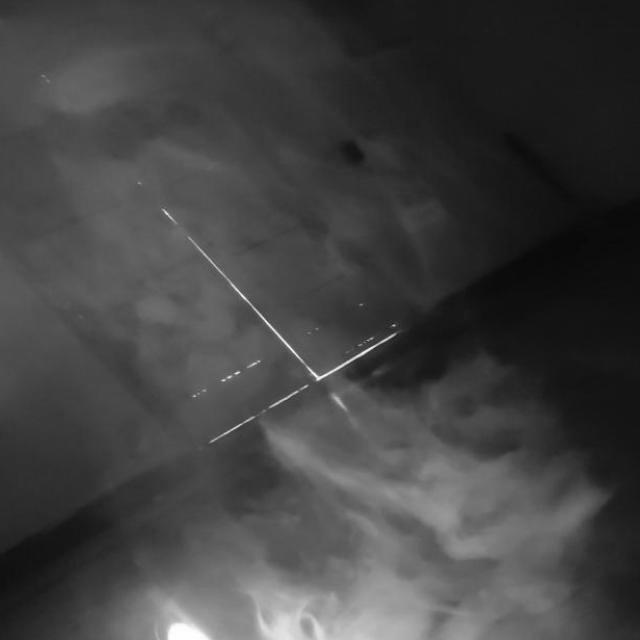fire: (244, 349, 616, 640)
